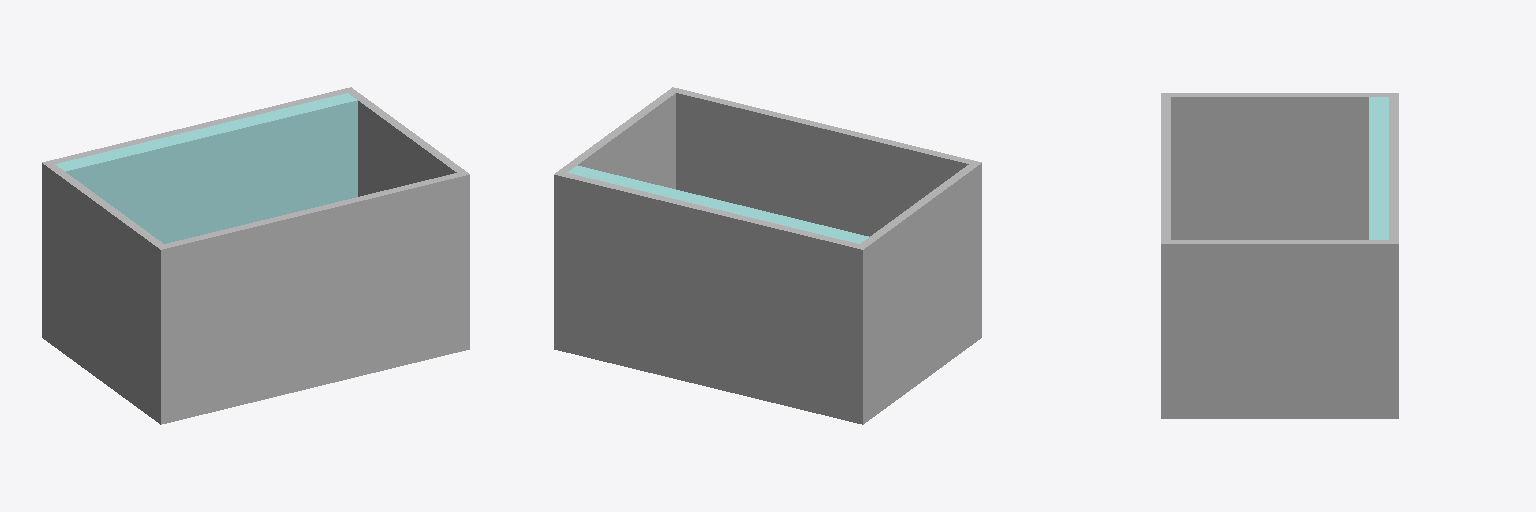
File: container.obj
3 views of the same model, side by side, from view 1: azimuth 30°, elevation 25°; view 2: azimuth 150°, elevation 25°; view 3: azimuth 270°, elevation 25° (orthographic).
Size of the model in its own units: 0.598 by 0.323 by 0.399.